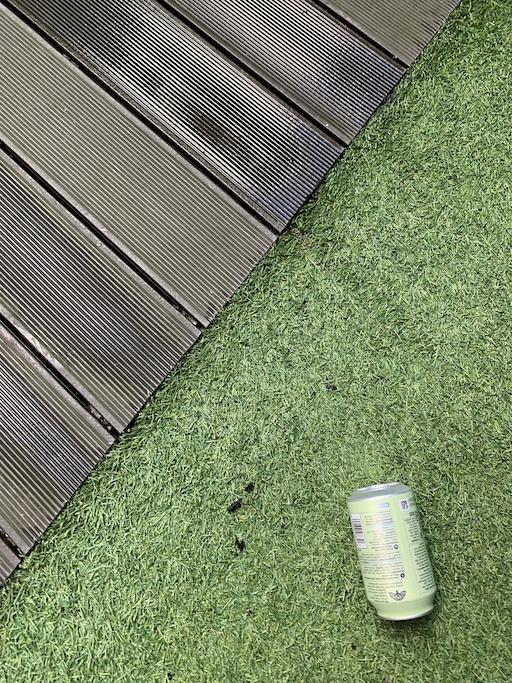Aluminum can: (326, 472, 466, 631)
